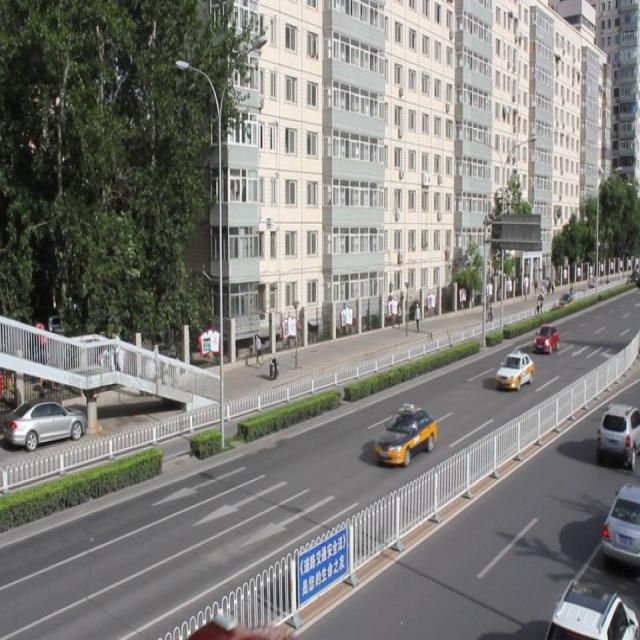car: (544, 579, 640, 640), (372, 410, 437, 465), (600, 481, 640, 561), (595, 402, 640, 463), (494, 350, 532, 392), (532, 323, 558, 351)
